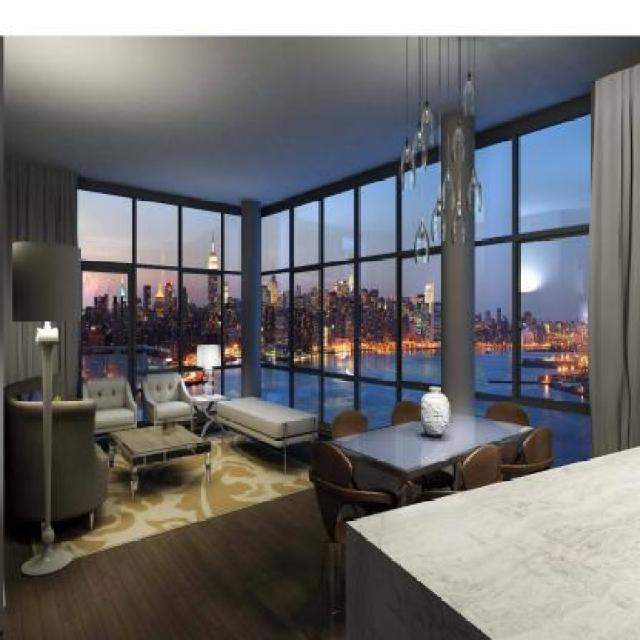Floor: (0, 486, 329, 640)
